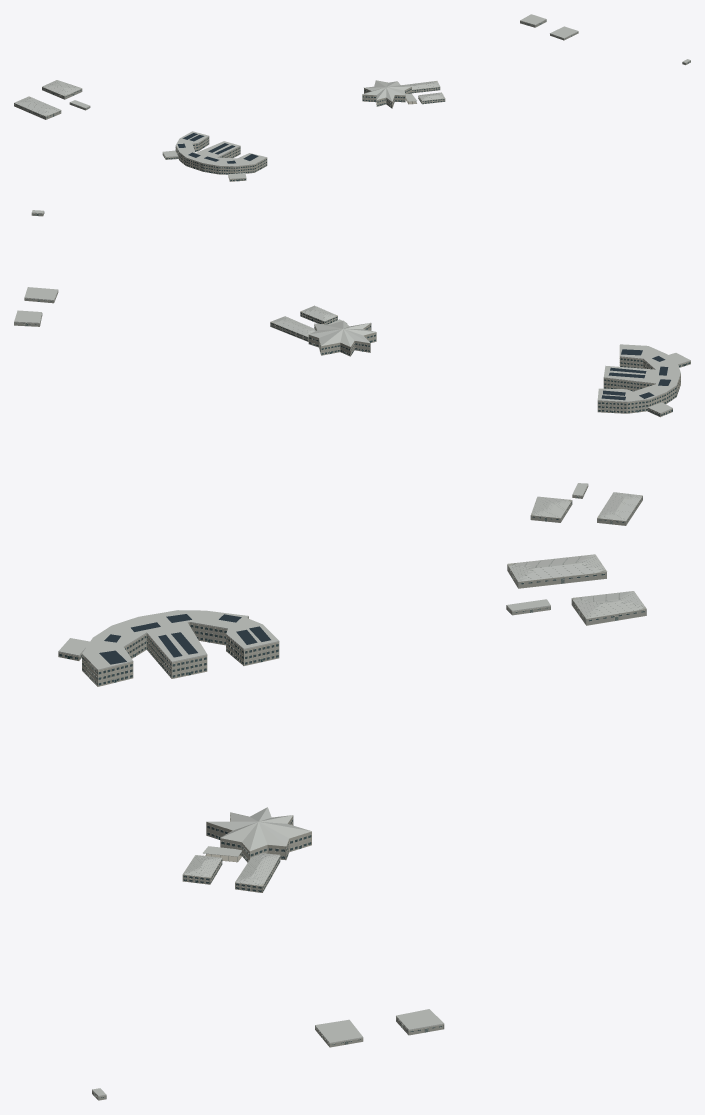
The model's file is UMPSA-Pekan-north.glb.
3 renders of one model, top to bottom at view 1: azimuth 30°, elevation 25°; view 2: azimuth 150°, elevation 25°; view 3: azimuth 270°, elevation 25°, orthographic. The views are drawn at different scales.
Visible parts, largest first — view 1: Fakulti Komputeran (FK) - campus exterior, Masjid Al-Jazari UMPSA Pekan - campus exterior, Northern campus laboratory - west - campus exterior, Northern campus laboratory - east - campus exterior, Masjid Al-Jazari - east wing - campus exterior; view 2: Fakulti Komputeran (FK) - campus exterior, Masjid Al-Jazari UMPSA Pekan - campus exterior, Northern campus laboratory - west - campus exterior, Northern campus laboratory - east - campus exterior, Masjid Al-Jazari - east wing - campus exterior; view 3: Fakulti Komputeran (FK) - campus exterior, Masjid Al-Jazari UMPSA Pekan - campus exterior, Northern campus laboratory - west - campus exterior, Northern campus laboratory - east - campus exterior, Masjid Al-Jazari - east wing - campus exterior, Northeast campus utility building - campus exterior, Northeast campus service building - campus exterior, Masjid Al-Jazari - south wing - campus exterior.
Part boxes in pixels (x1=…): Fakulti Komputeran (FK) - campus exterior: x1=175, y1=131, x2=267, y2=174; Masjid Al-Jazari UMPSA Pekan - campus exterior: x1=362, y1=80, x2=411, y2=108; Northern campus laboratory - west - campus exterior: x1=14, y1=96, x2=61, y2=119; Northern campus laboratory - east - campus exterior: x1=42, y1=80, x2=82, y2=99; Masjid Al-Jazari - east wing - campus exterior: x1=402, y1=81, x2=440, y2=93; Fakulti Komputeran (FK) - campus exterior: x1=597, y1=344, x2=680, y2=413; Masjid Al-Jazari UMPSA Pekan - campus exterior: x1=308, y1=320, x2=376, y2=356; Northern campus laboratory - west - campus exterior: x1=597, y1=492, x2=642, y2=525; Northern campus laboratory - east - campus exterior: x1=530, y1=496, x2=572, y2=522; Masjid Al-Jazari - east wing - campus exterior: x1=270, y1=316, x2=315, y2=341; Fakulti Komputeran (FK) - campus exterior: x1=82, y1=610, x2=279, y2=686; Masjid Al-Jazari UMPSA Pekan - campus exterior: x1=206, y1=807, x2=311, y2=862; Northern campus laboratory - west - campus exterior: x1=507, y1=554, x2=606, y2=588; Northern campus laboratory - east - campus exterior: x1=571, y1=591, x2=646, y2=625; Masjid Al-Jazari - east wing - campus exterior: x1=235, y1=853, x2=280, y2=892; Northeast campus utility building - campus exterior: x1=315, y1=1019, x2=363, y2=1047; Northeast campus service building - campus exterior: x1=396, y1=1009, x2=444, y2=1035; Masjid Al-Jazari - south wing - campus exterior: x1=182, y1=855, x2=222, y2=884.
Bounding box in the file's own units: 999 × 17.99 × 461.
